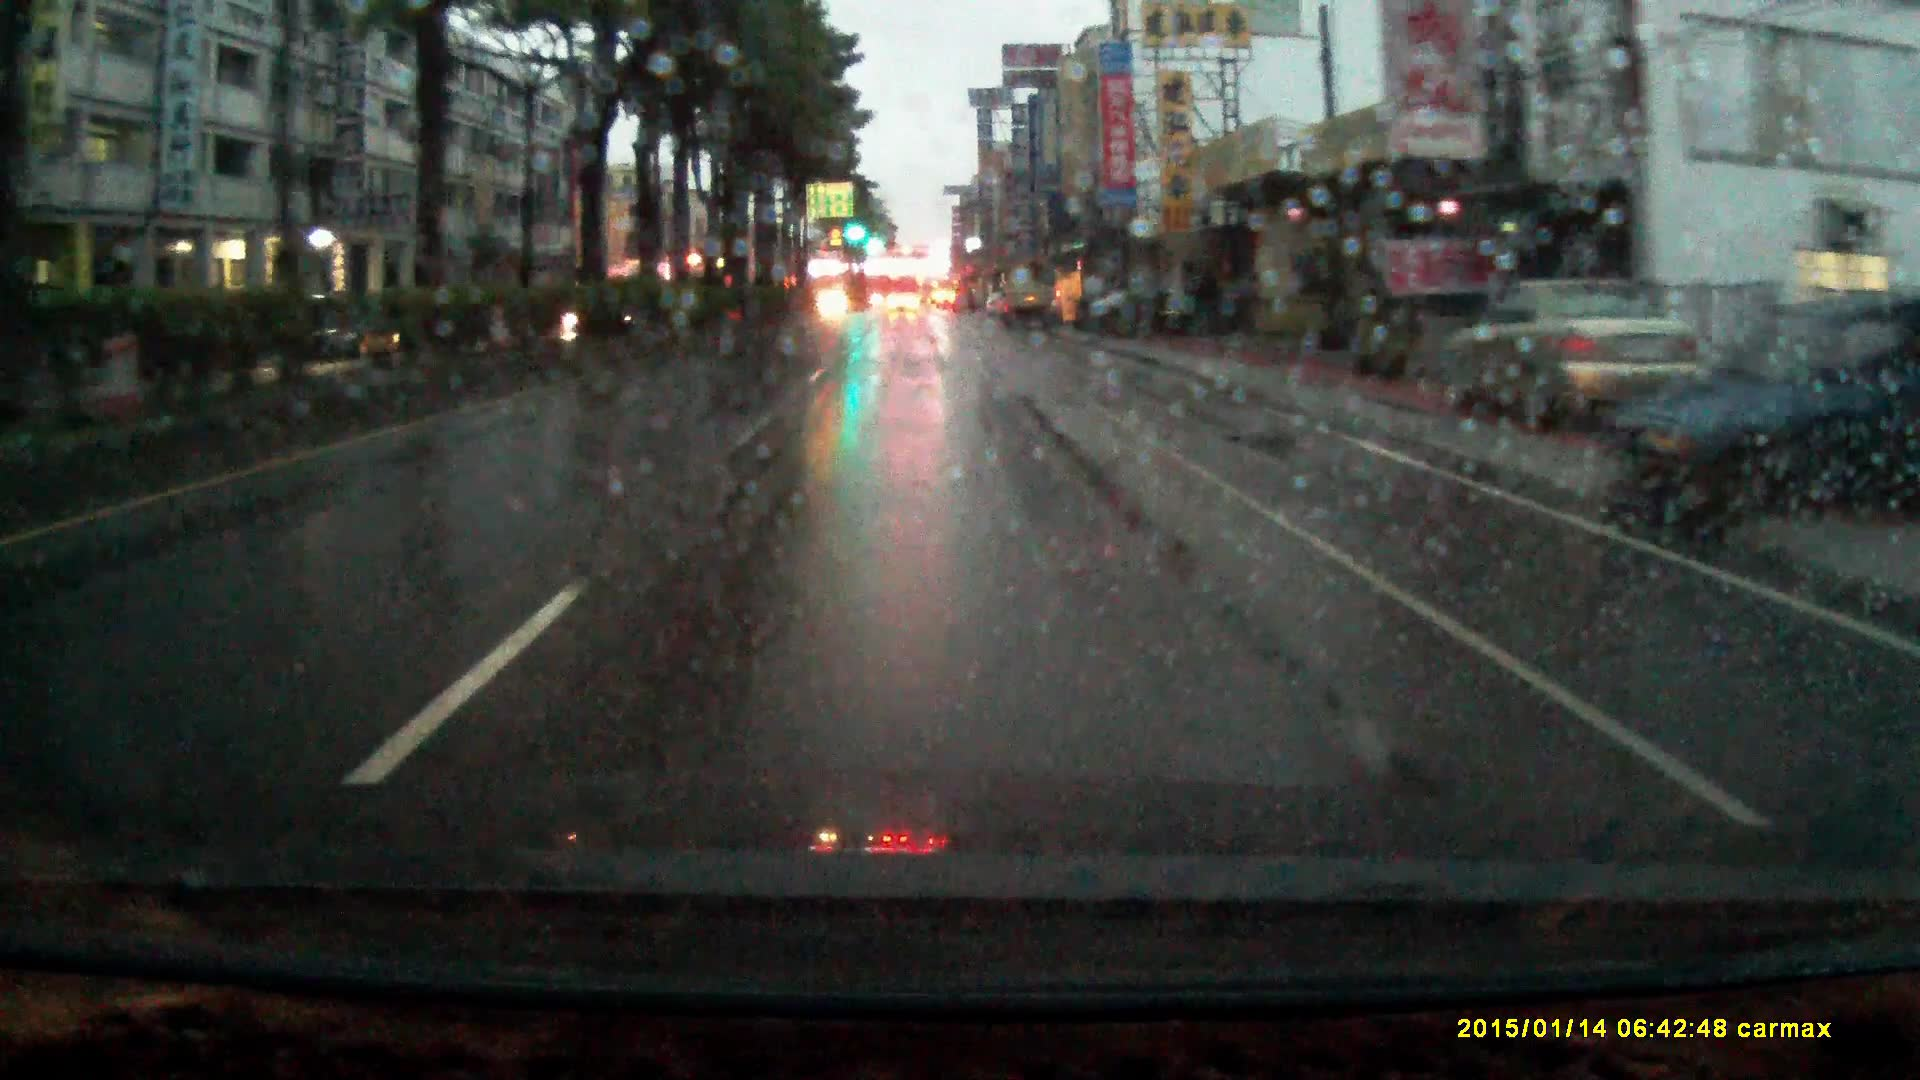vehicle: (1601, 295, 1920, 525), (1466, 280, 1706, 435), (1076, 282, 1246, 338), (1000, 284, 1052, 336), (886, 294, 920, 316)
